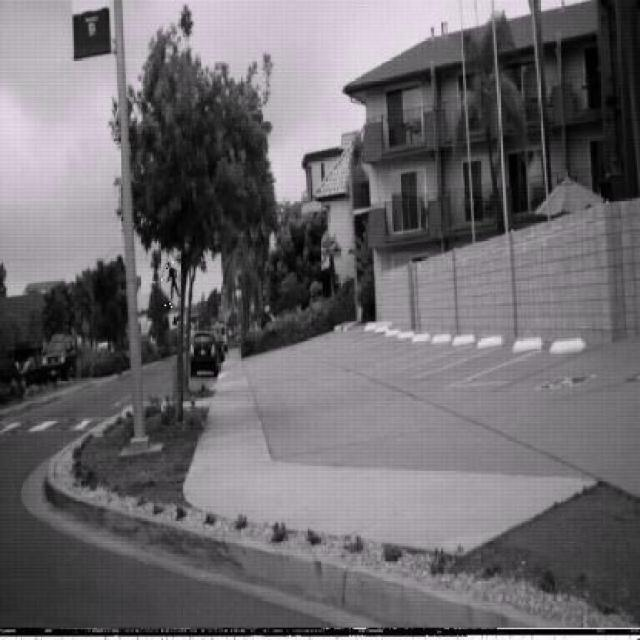pedestrianCrossing: (158, 249, 188, 309)
